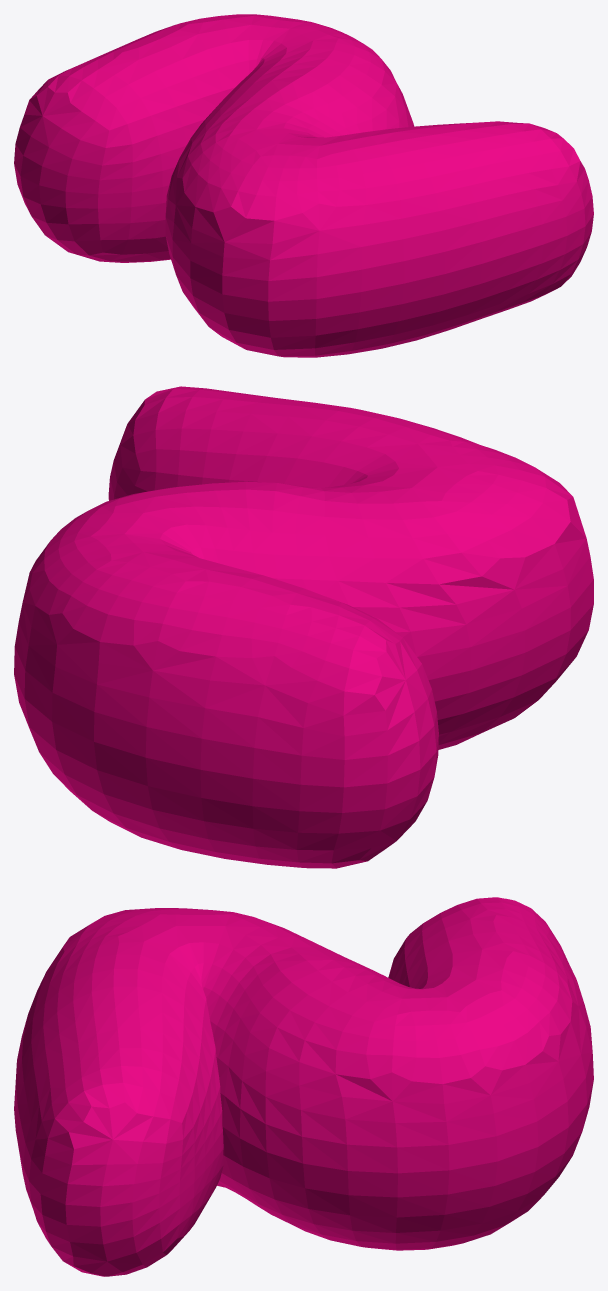
The picture shows the model from 3 angles, top to bottom: view 1: azimuth 30°, elevation 25°; view 2: azimuth 150°, elevation 25°; view 3: azimuth 270°, elevation 25°; orthographic projection. The views are drawn at different scales.
Bounding box in the file's own units: 0.8585 × 0.4411 × 0.908.
